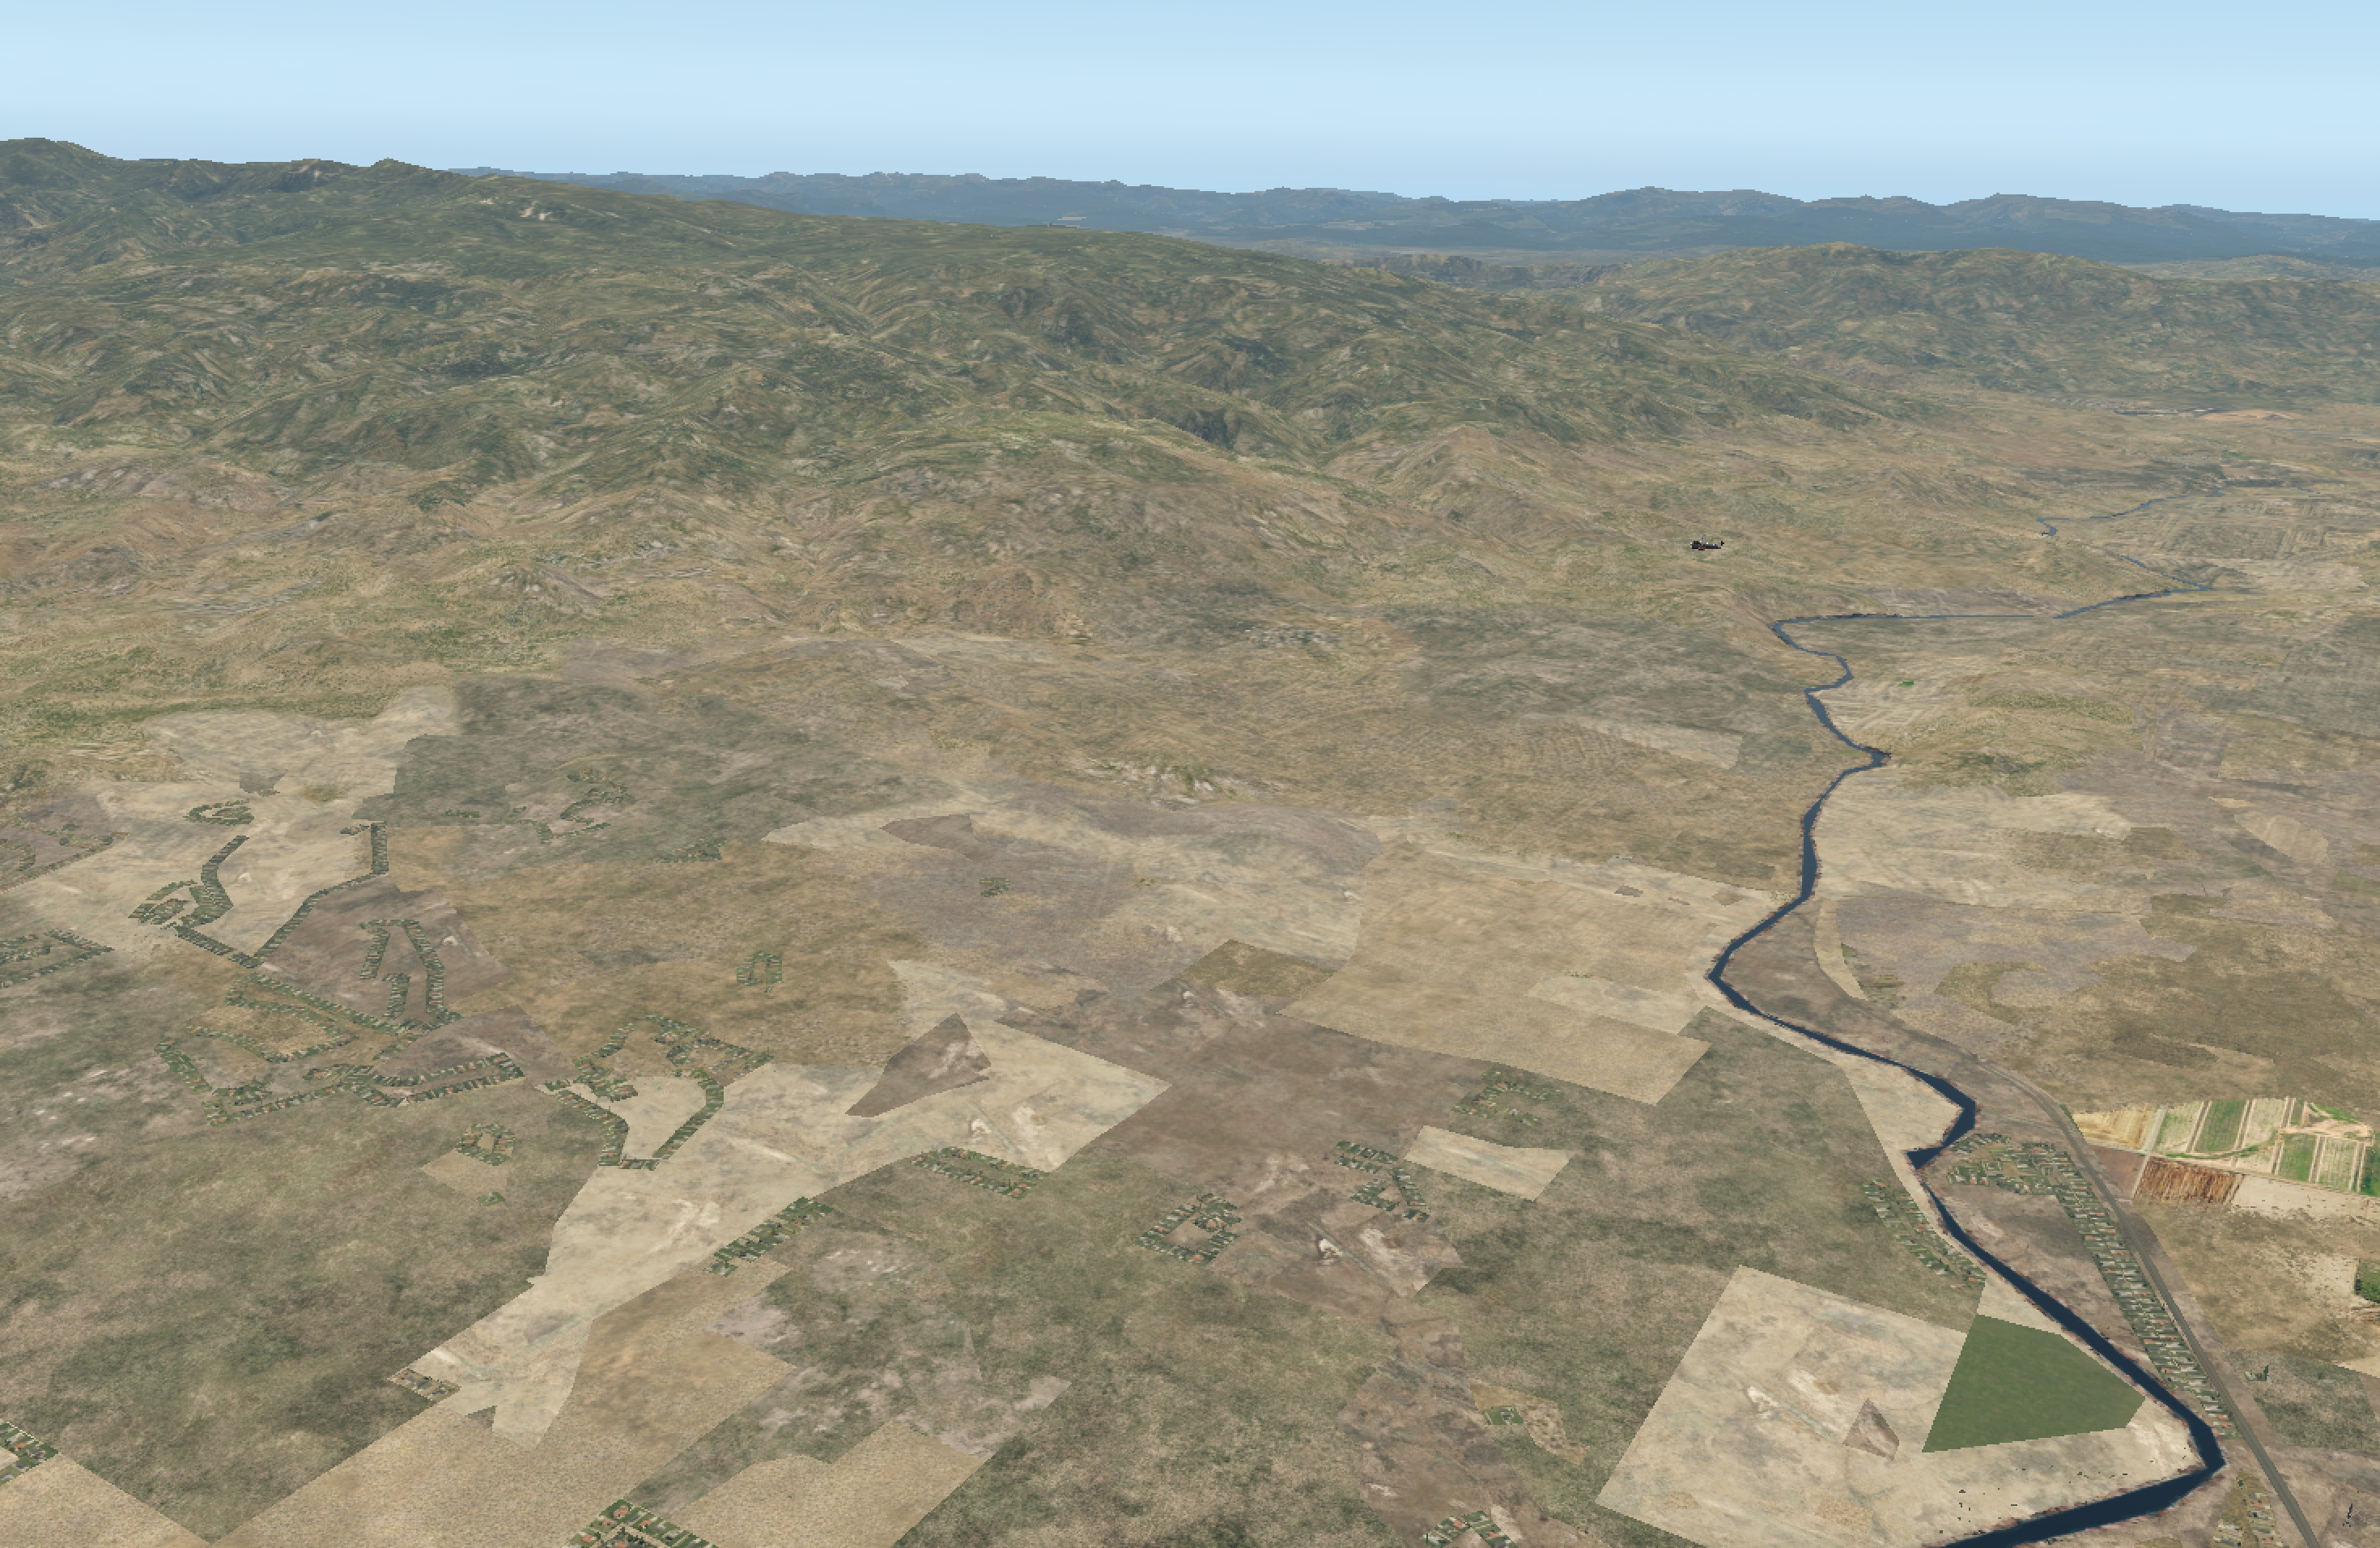aircraft: (1677, 538, 1723, 555)
